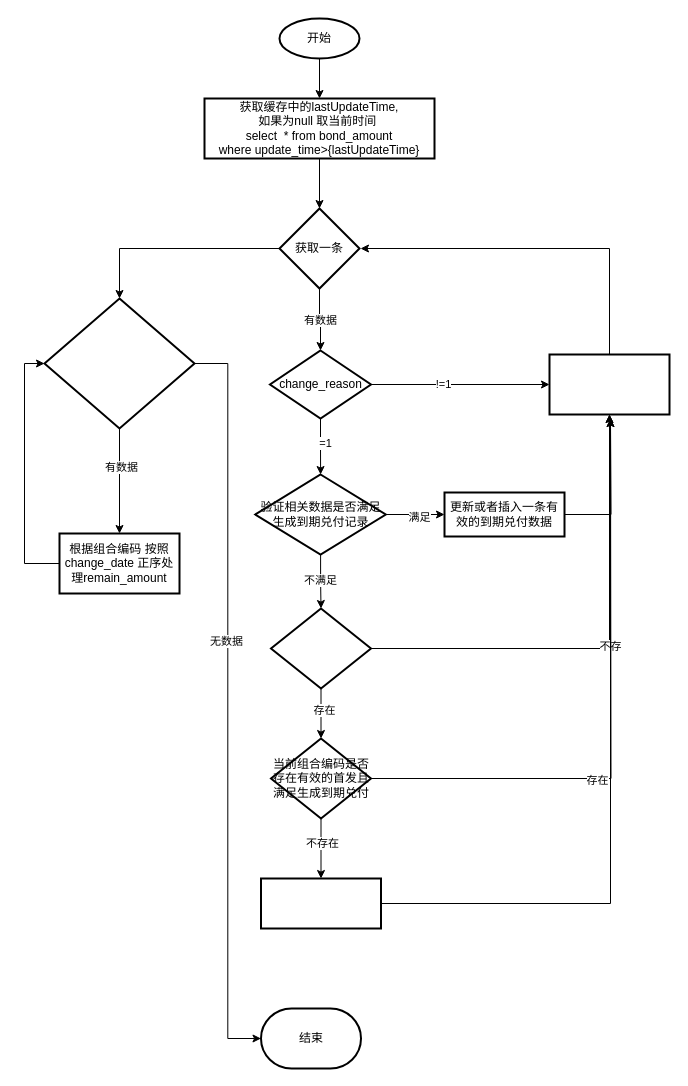
The diagram is 688 pixels wide and 1086 high, and some of its shapes have lost their labels. Here are the shapes that lost their labels. From the top down, the centre of each, then its label:
(x=119, y=363): 从combinationCodes获 取一个组合编码
(x=609, y=384): 债券组合编码加入combinationCodes集合
(x=321, y=648): 当前组合编码是否存在有效的到期兑付记录
(x=321, y=903): 把组合编码对应的到期兑付设置成无效
